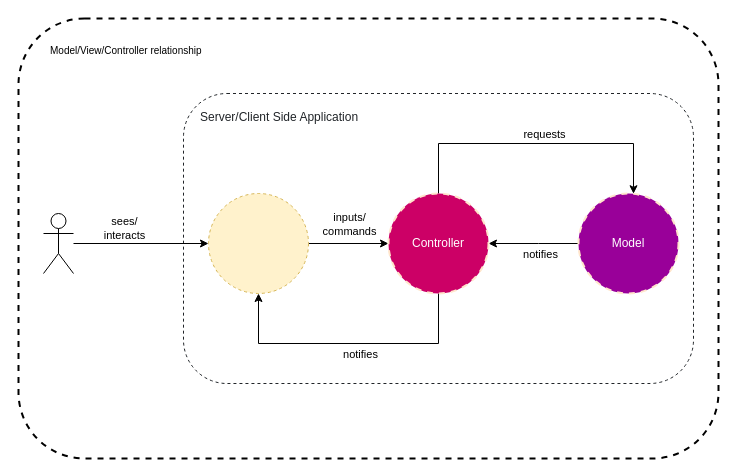
Image size: 736x476. Some labels were removed from this diagram. Each missing label, with the centre of its shape:
User: the point at 58,243
View: the point at 258,243
